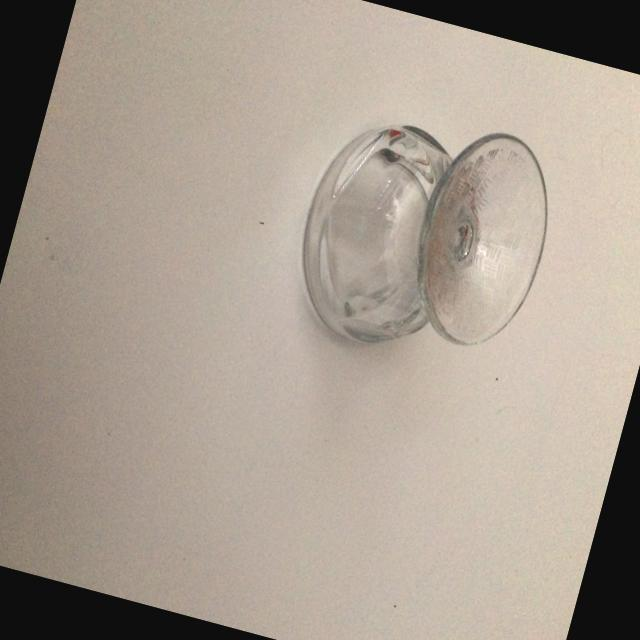Glass: (268, 79, 578, 401)
